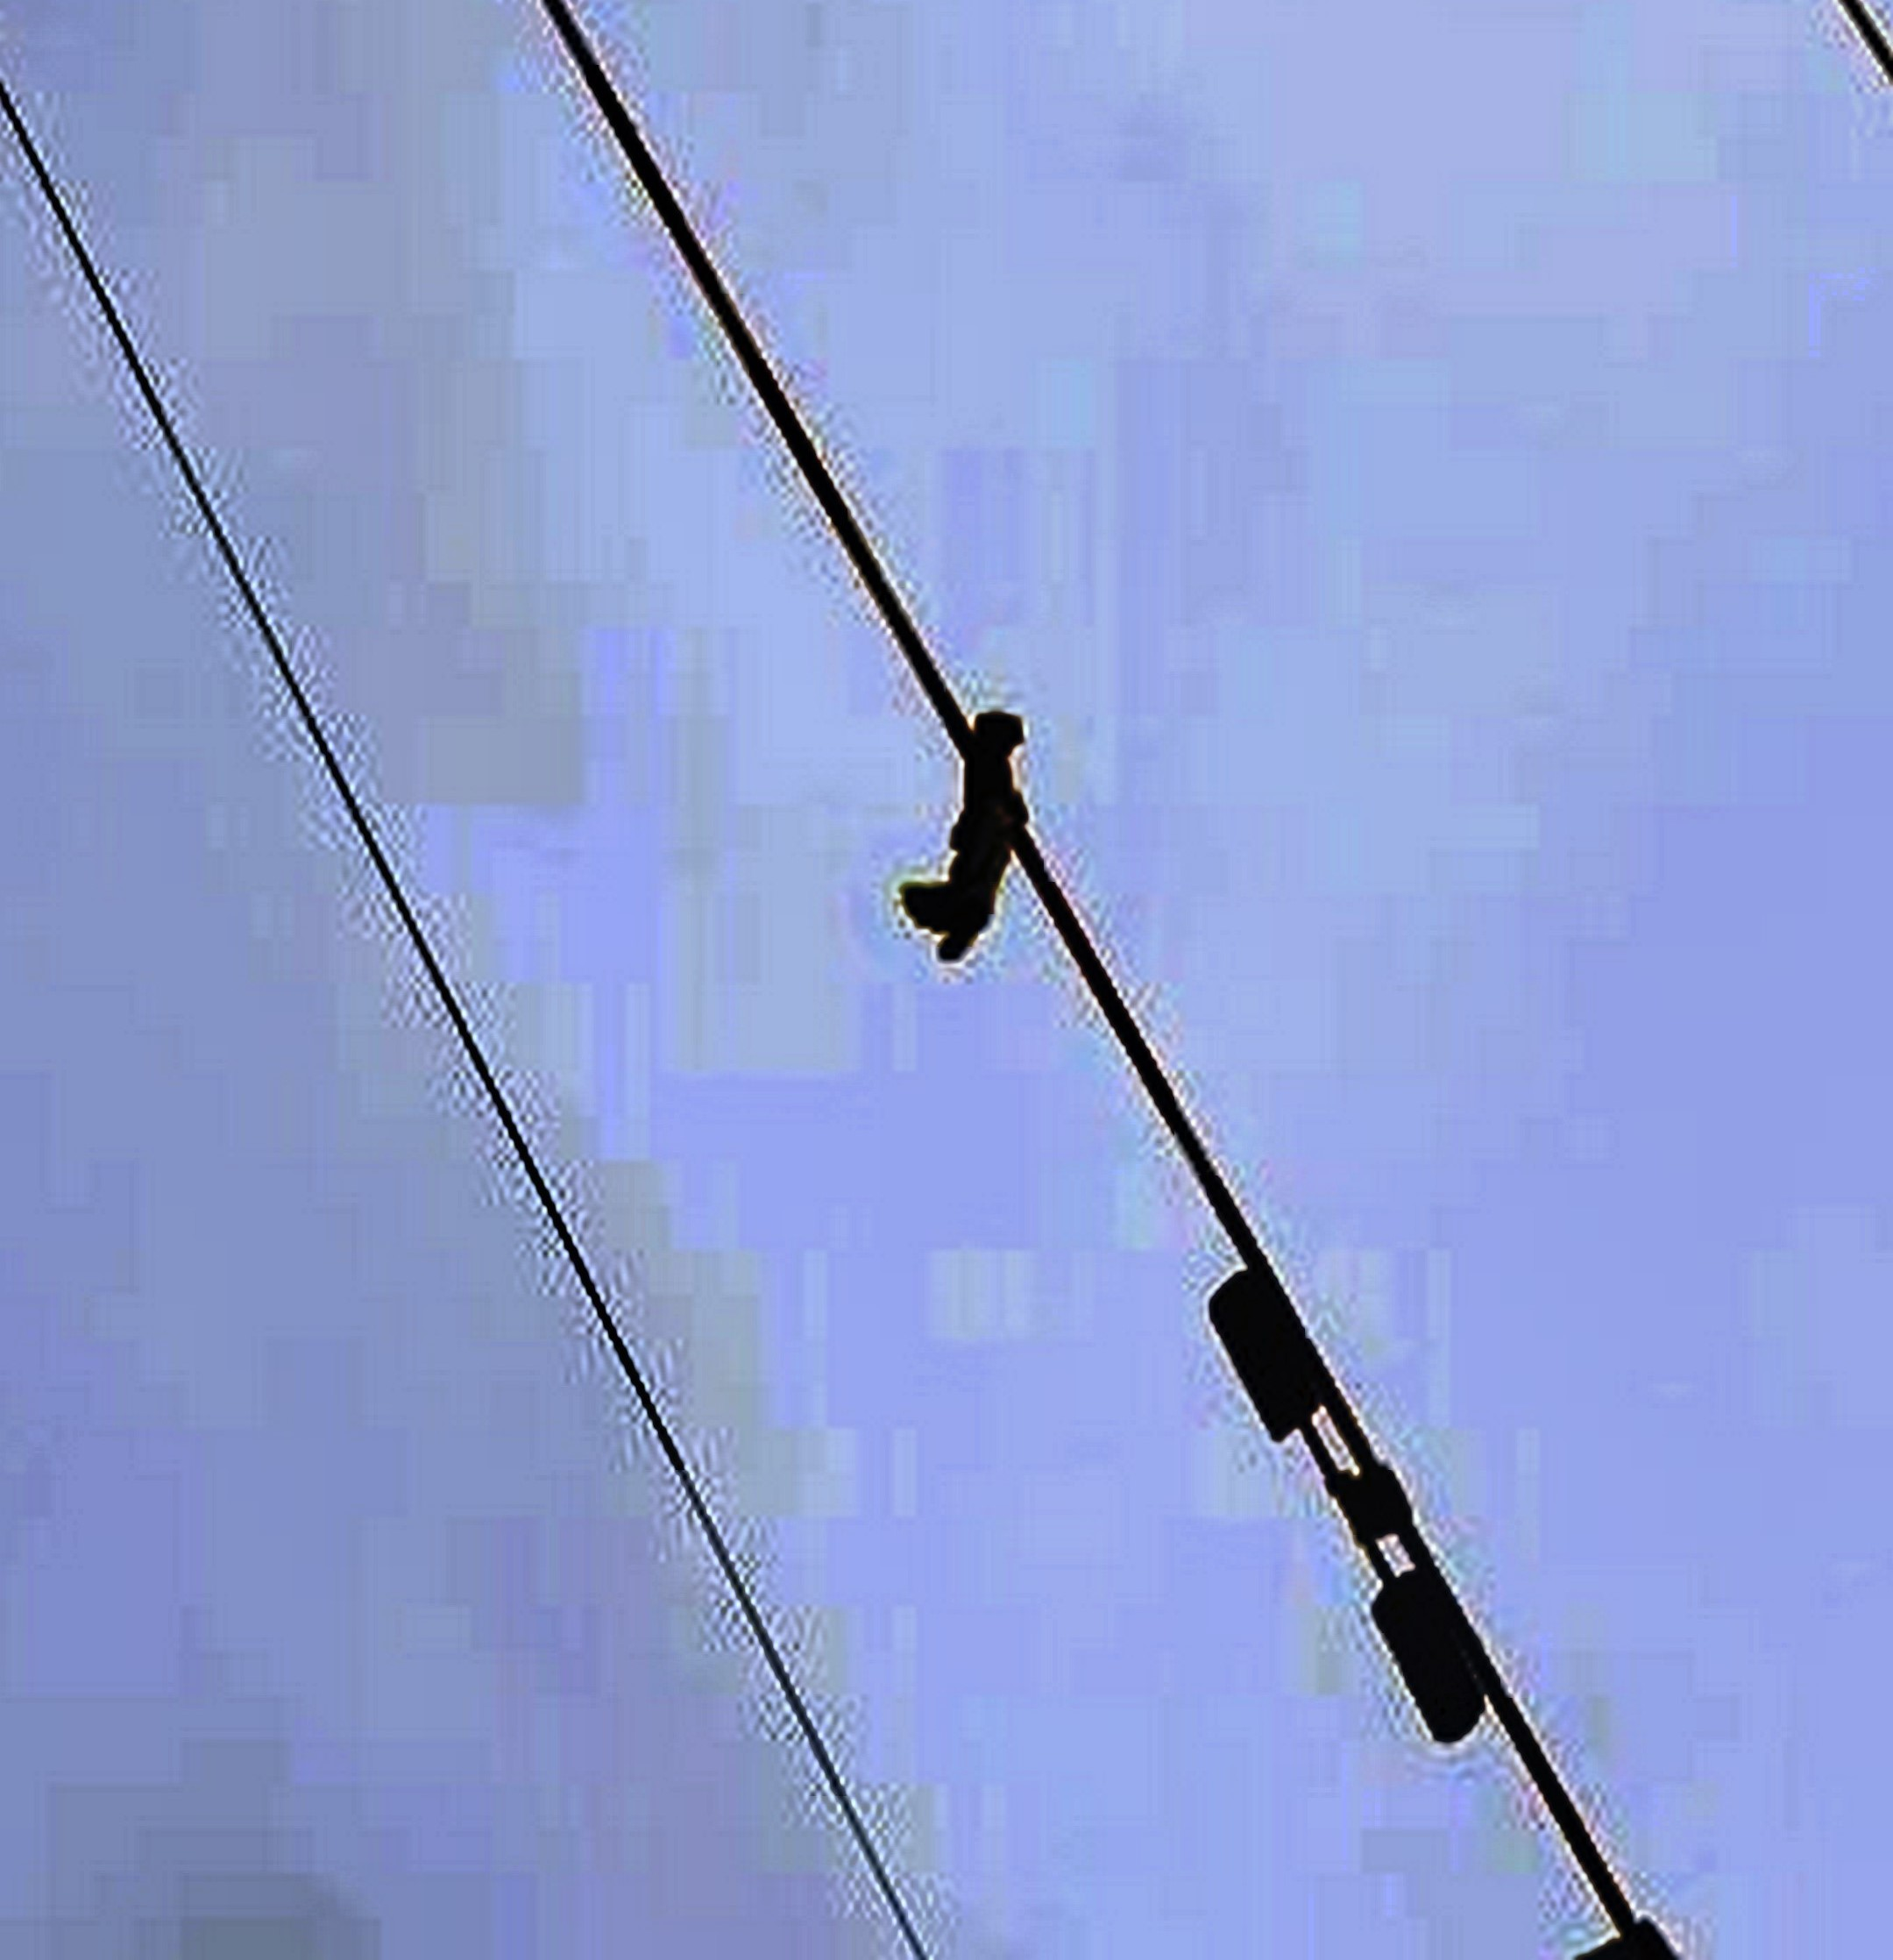wire foreign body: (878, 696, 1086, 959)
